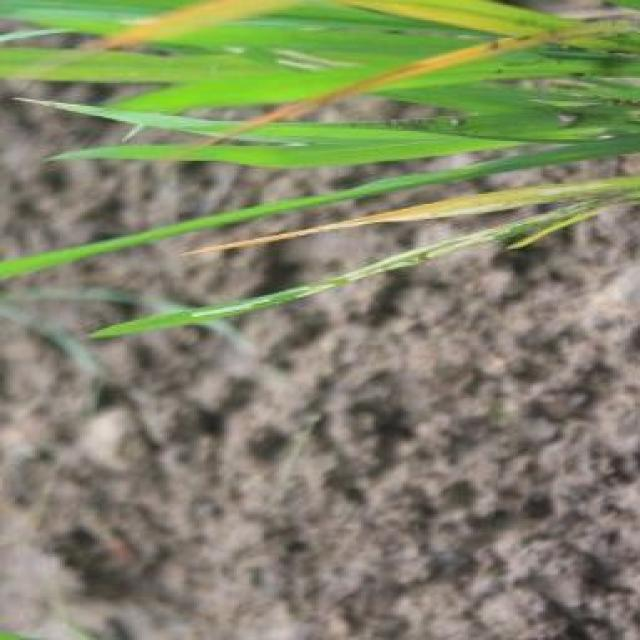Tungro: (96, 0, 610, 80), (193, 177, 639, 259)
